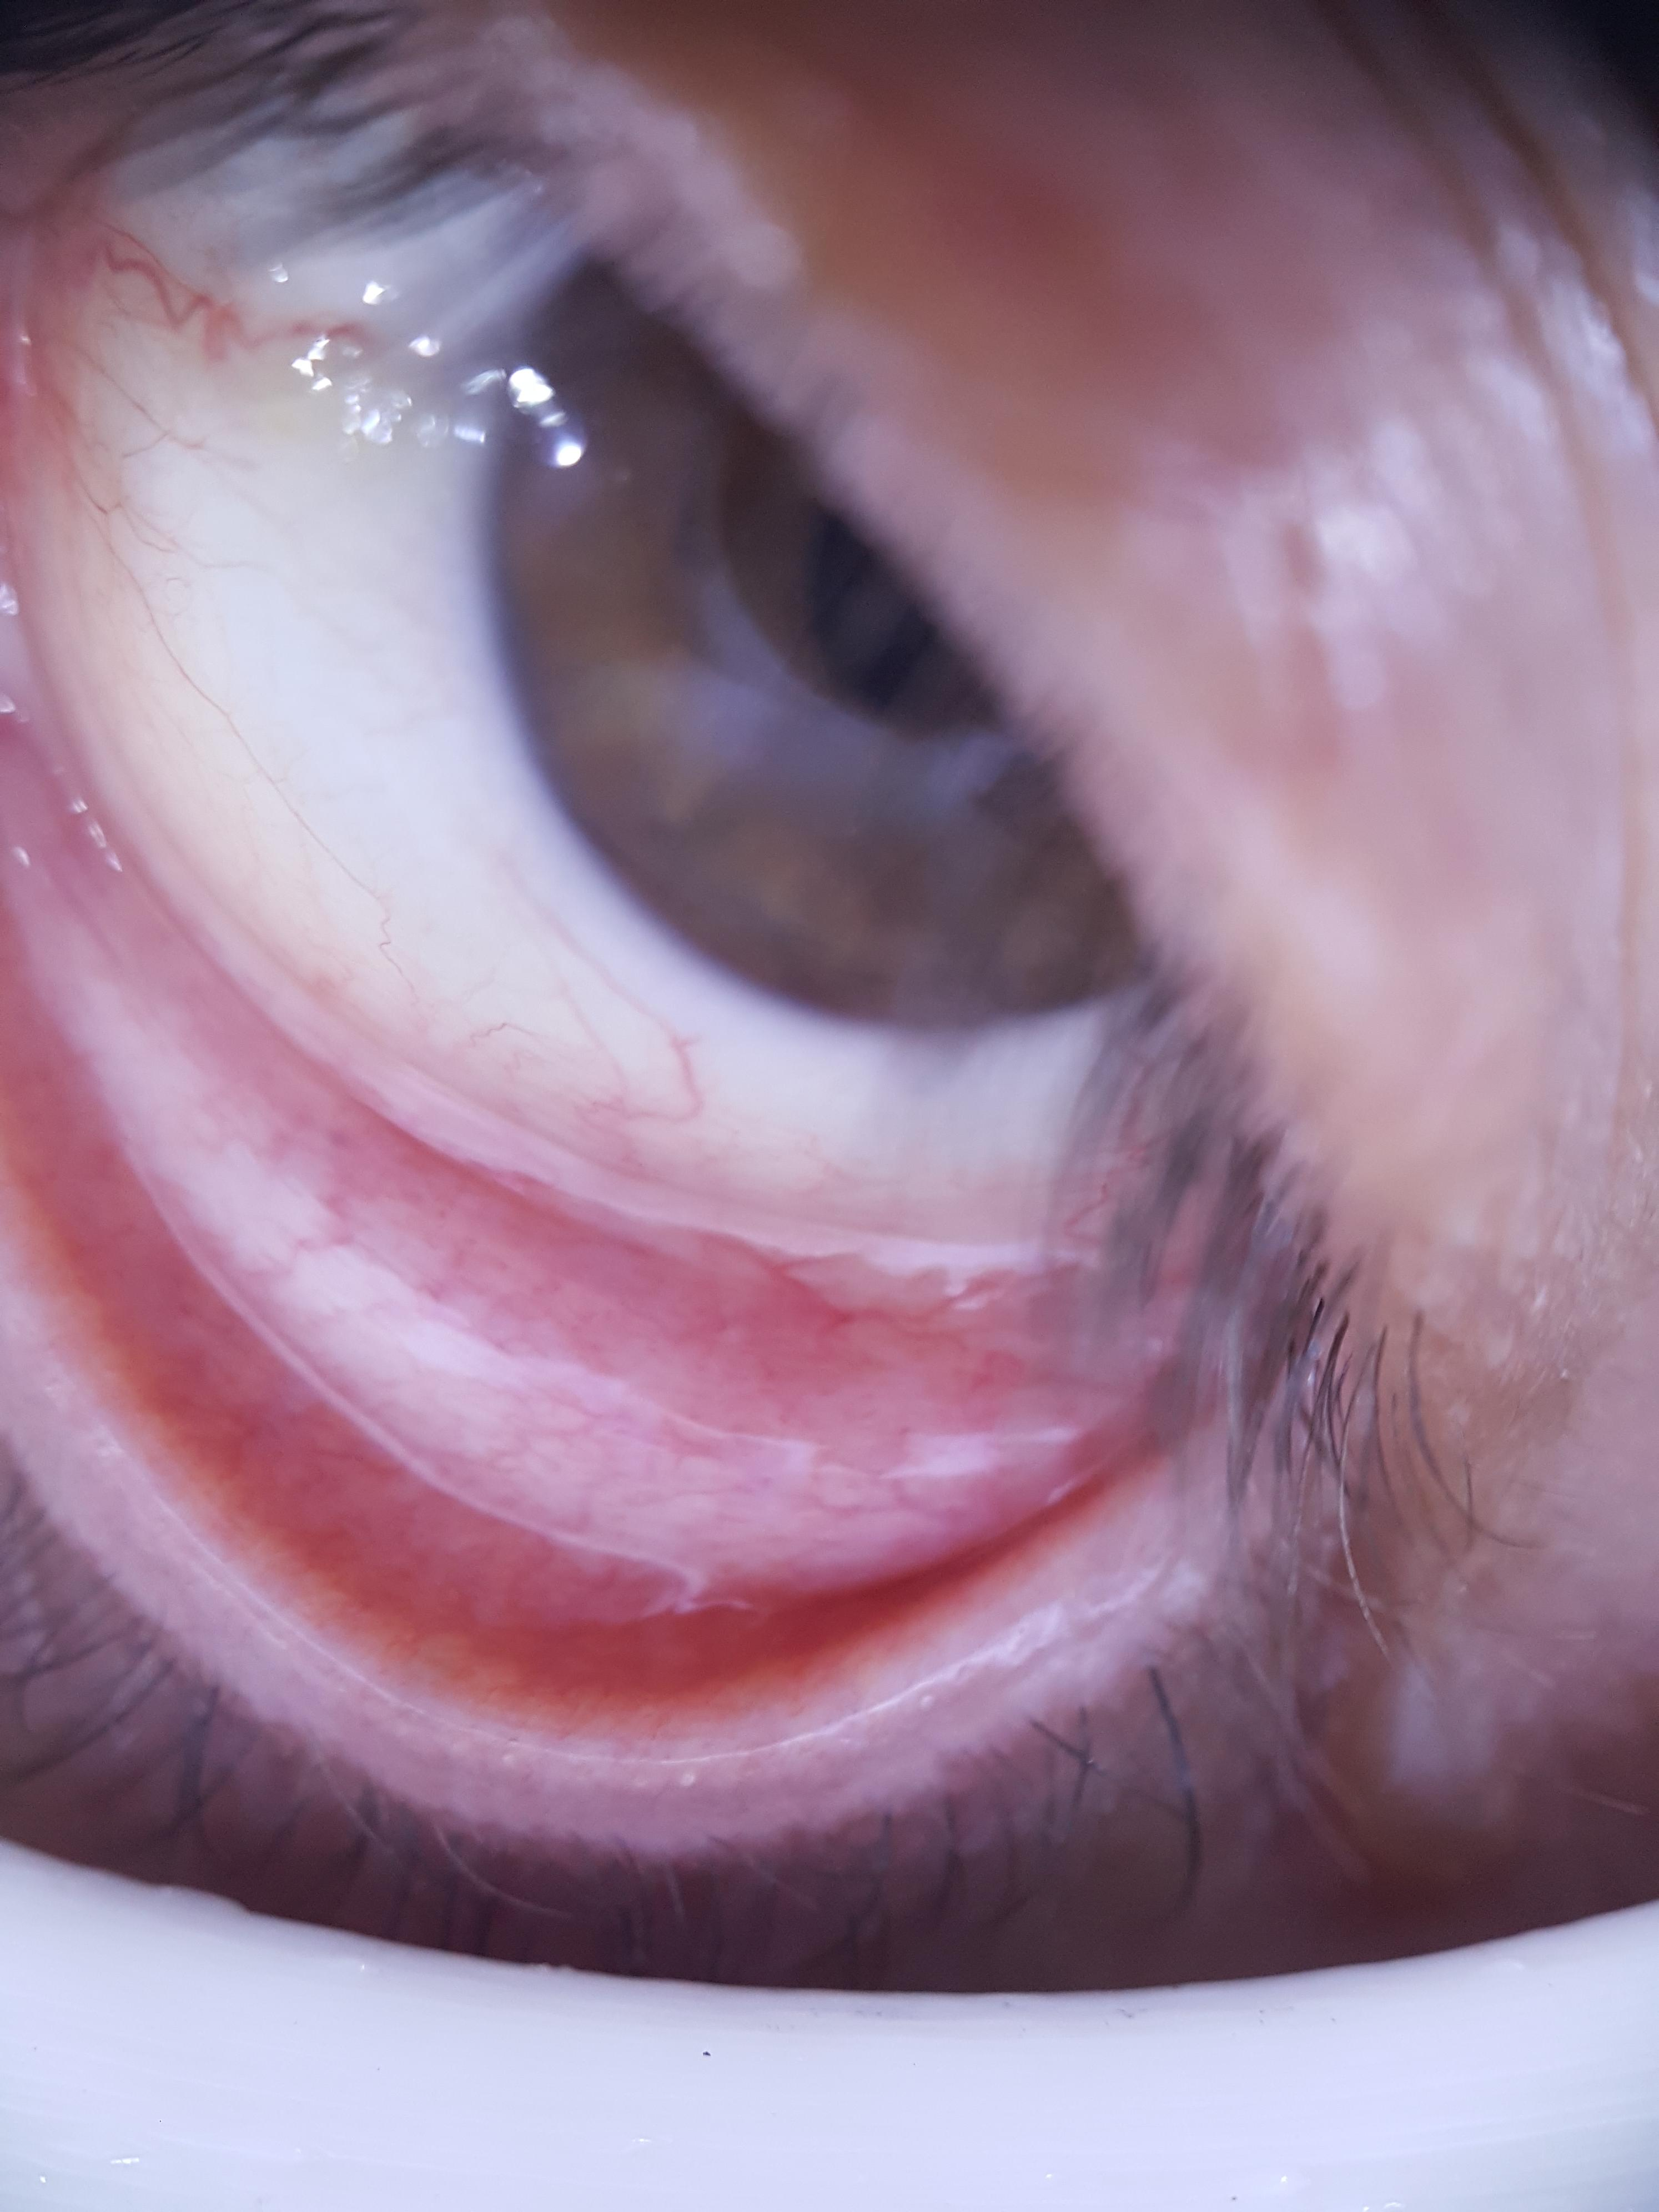forniceal: (10, 617, 1155, 1594)
forniceal_palpebral: (0, 599, 1176, 1721)
palpebral: (0, 939, 1166, 1705)
